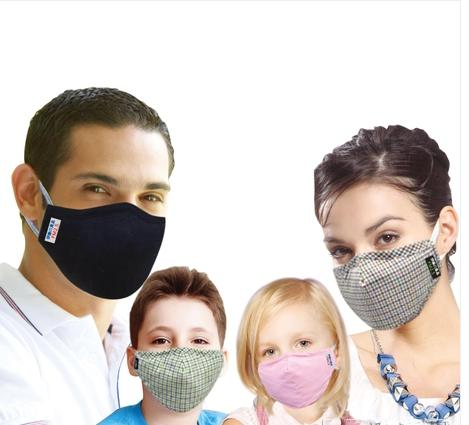OK: (48, 169, 176, 297), (320, 214, 435, 329), (134, 323, 224, 413), (253, 329, 332, 408)
